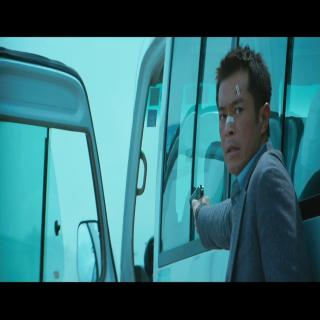gun: (189, 183, 209, 233)
